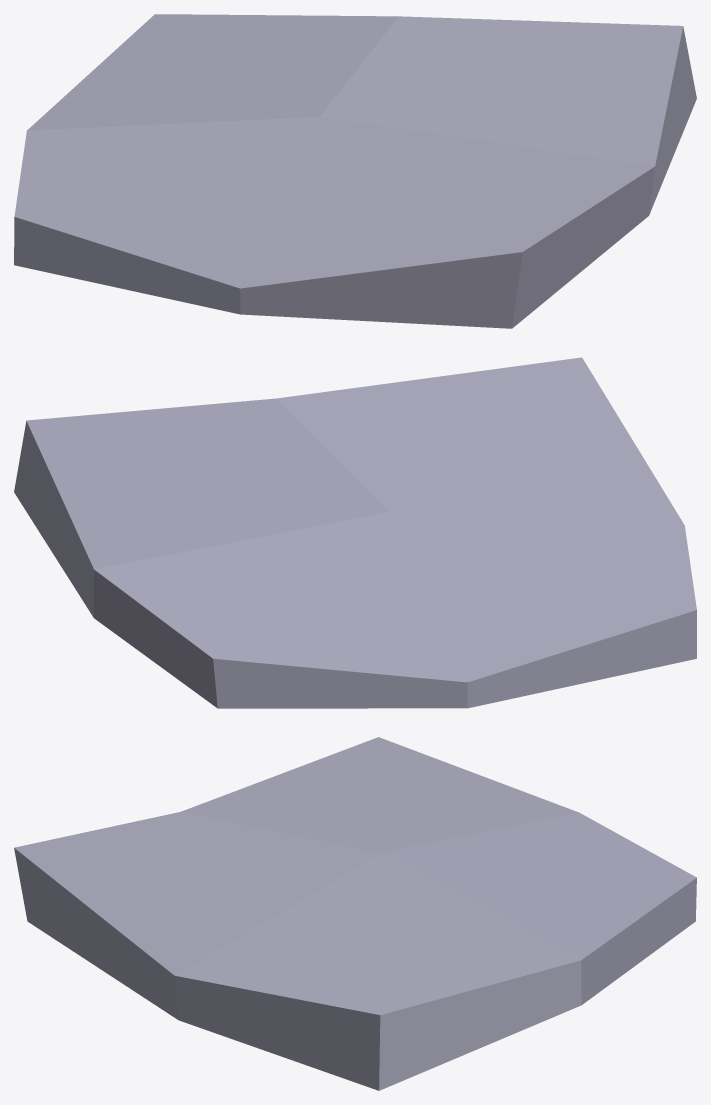
File: Batugepeng3.fbx
3 views of the same model, one above another, from view 1: azimuth 30°, elevation 25°; view 2: azimuth 150°, elevation 25°; view 3: azimuth 270°, elevation 25° (orthographic). The views are drawn at different scales.
Parts seen in each view (by area): view 1: roadrock_3a; view 2: roadrock_3a; view 3: roadrock_3a.
Boxes of the visible parts, bbox=[...] form: roadrock_3a: bbox=[14, 14, 696, 328]; roadrock_3a: bbox=[14, 357, 696, 708]; roadrock_3a: bbox=[14, 737, 696, 1090].
Bounding box in the file's own units: 184 × 20.87 × 172.
